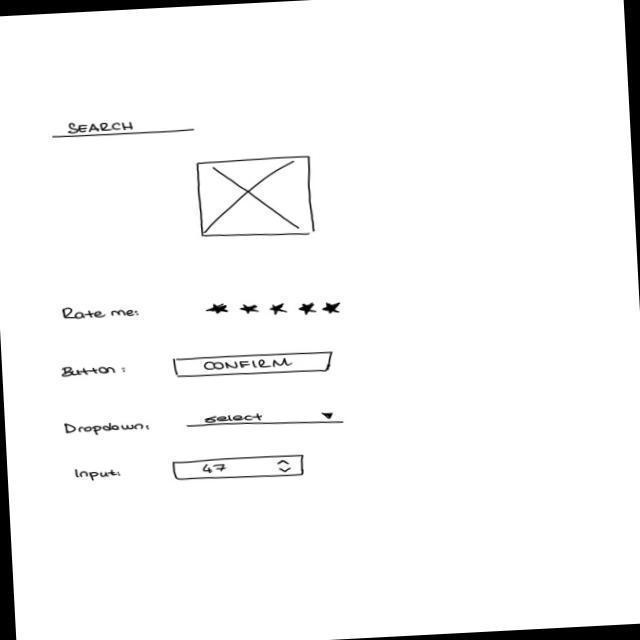button: (172, 350, 337, 382)
image: (195, 154, 319, 243)
input: (49, 115, 198, 142)
label: (63, 418, 155, 441), (60, 304, 144, 324), (61, 363, 131, 381), (73, 466, 125, 483)
number-input: (170, 454, 310, 485)
select: (186, 407, 347, 434)
